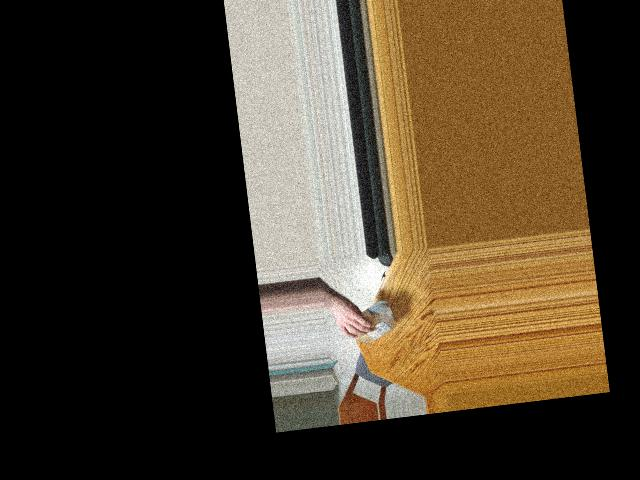cheese: (350, 304, 395, 338)
